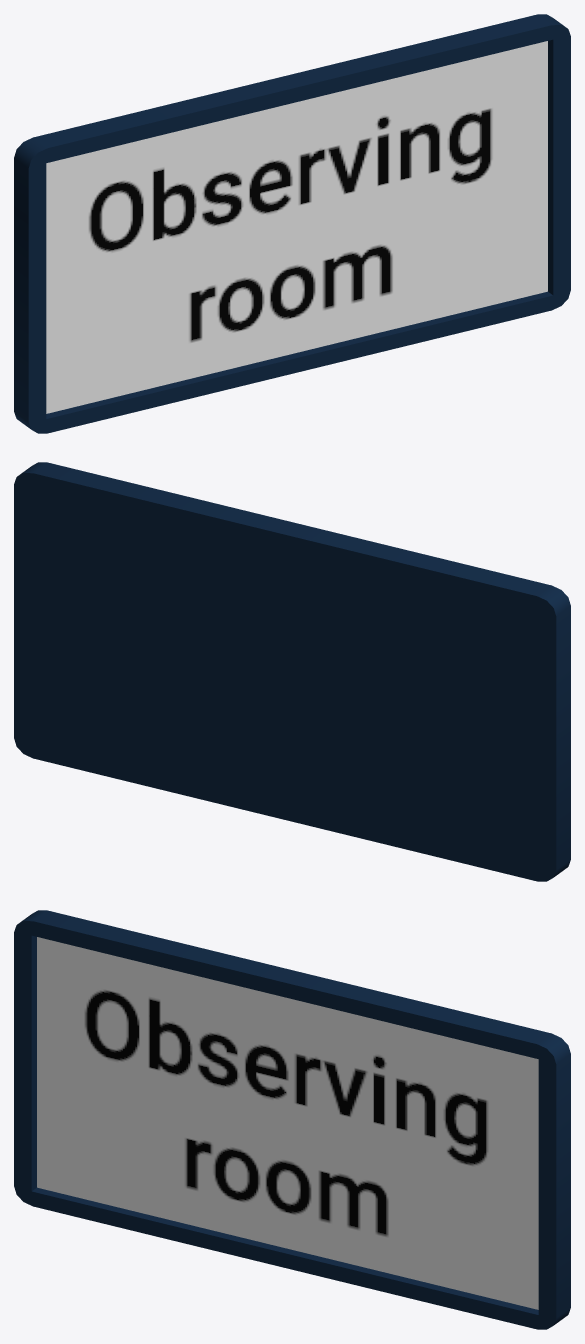
The model's file is SST - Observing room.fbx.
The picture shows the model from 3 angles, top to bottom: view 1: azimuth 30°, elevation 25°; view 2: azimuth 150°, elevation 25°; view 3: azimuth 330°, elevation 25°; orthographic projection.
Visible parts, largest first — view 1: CLIMSO; view 2: CLIMSO; view 3: CLIMSO.
Part boxes in pixels (bbox=[...]): CLIMSO: bbox=[14, 14, 570, 433]; CLIMSO: bbox=[14, 462, 570, 881]; CLIMSO: bbox=[14, 910, 570, 1329].
Bounding box in the file's own units: 297 × 149 × 13.93.
